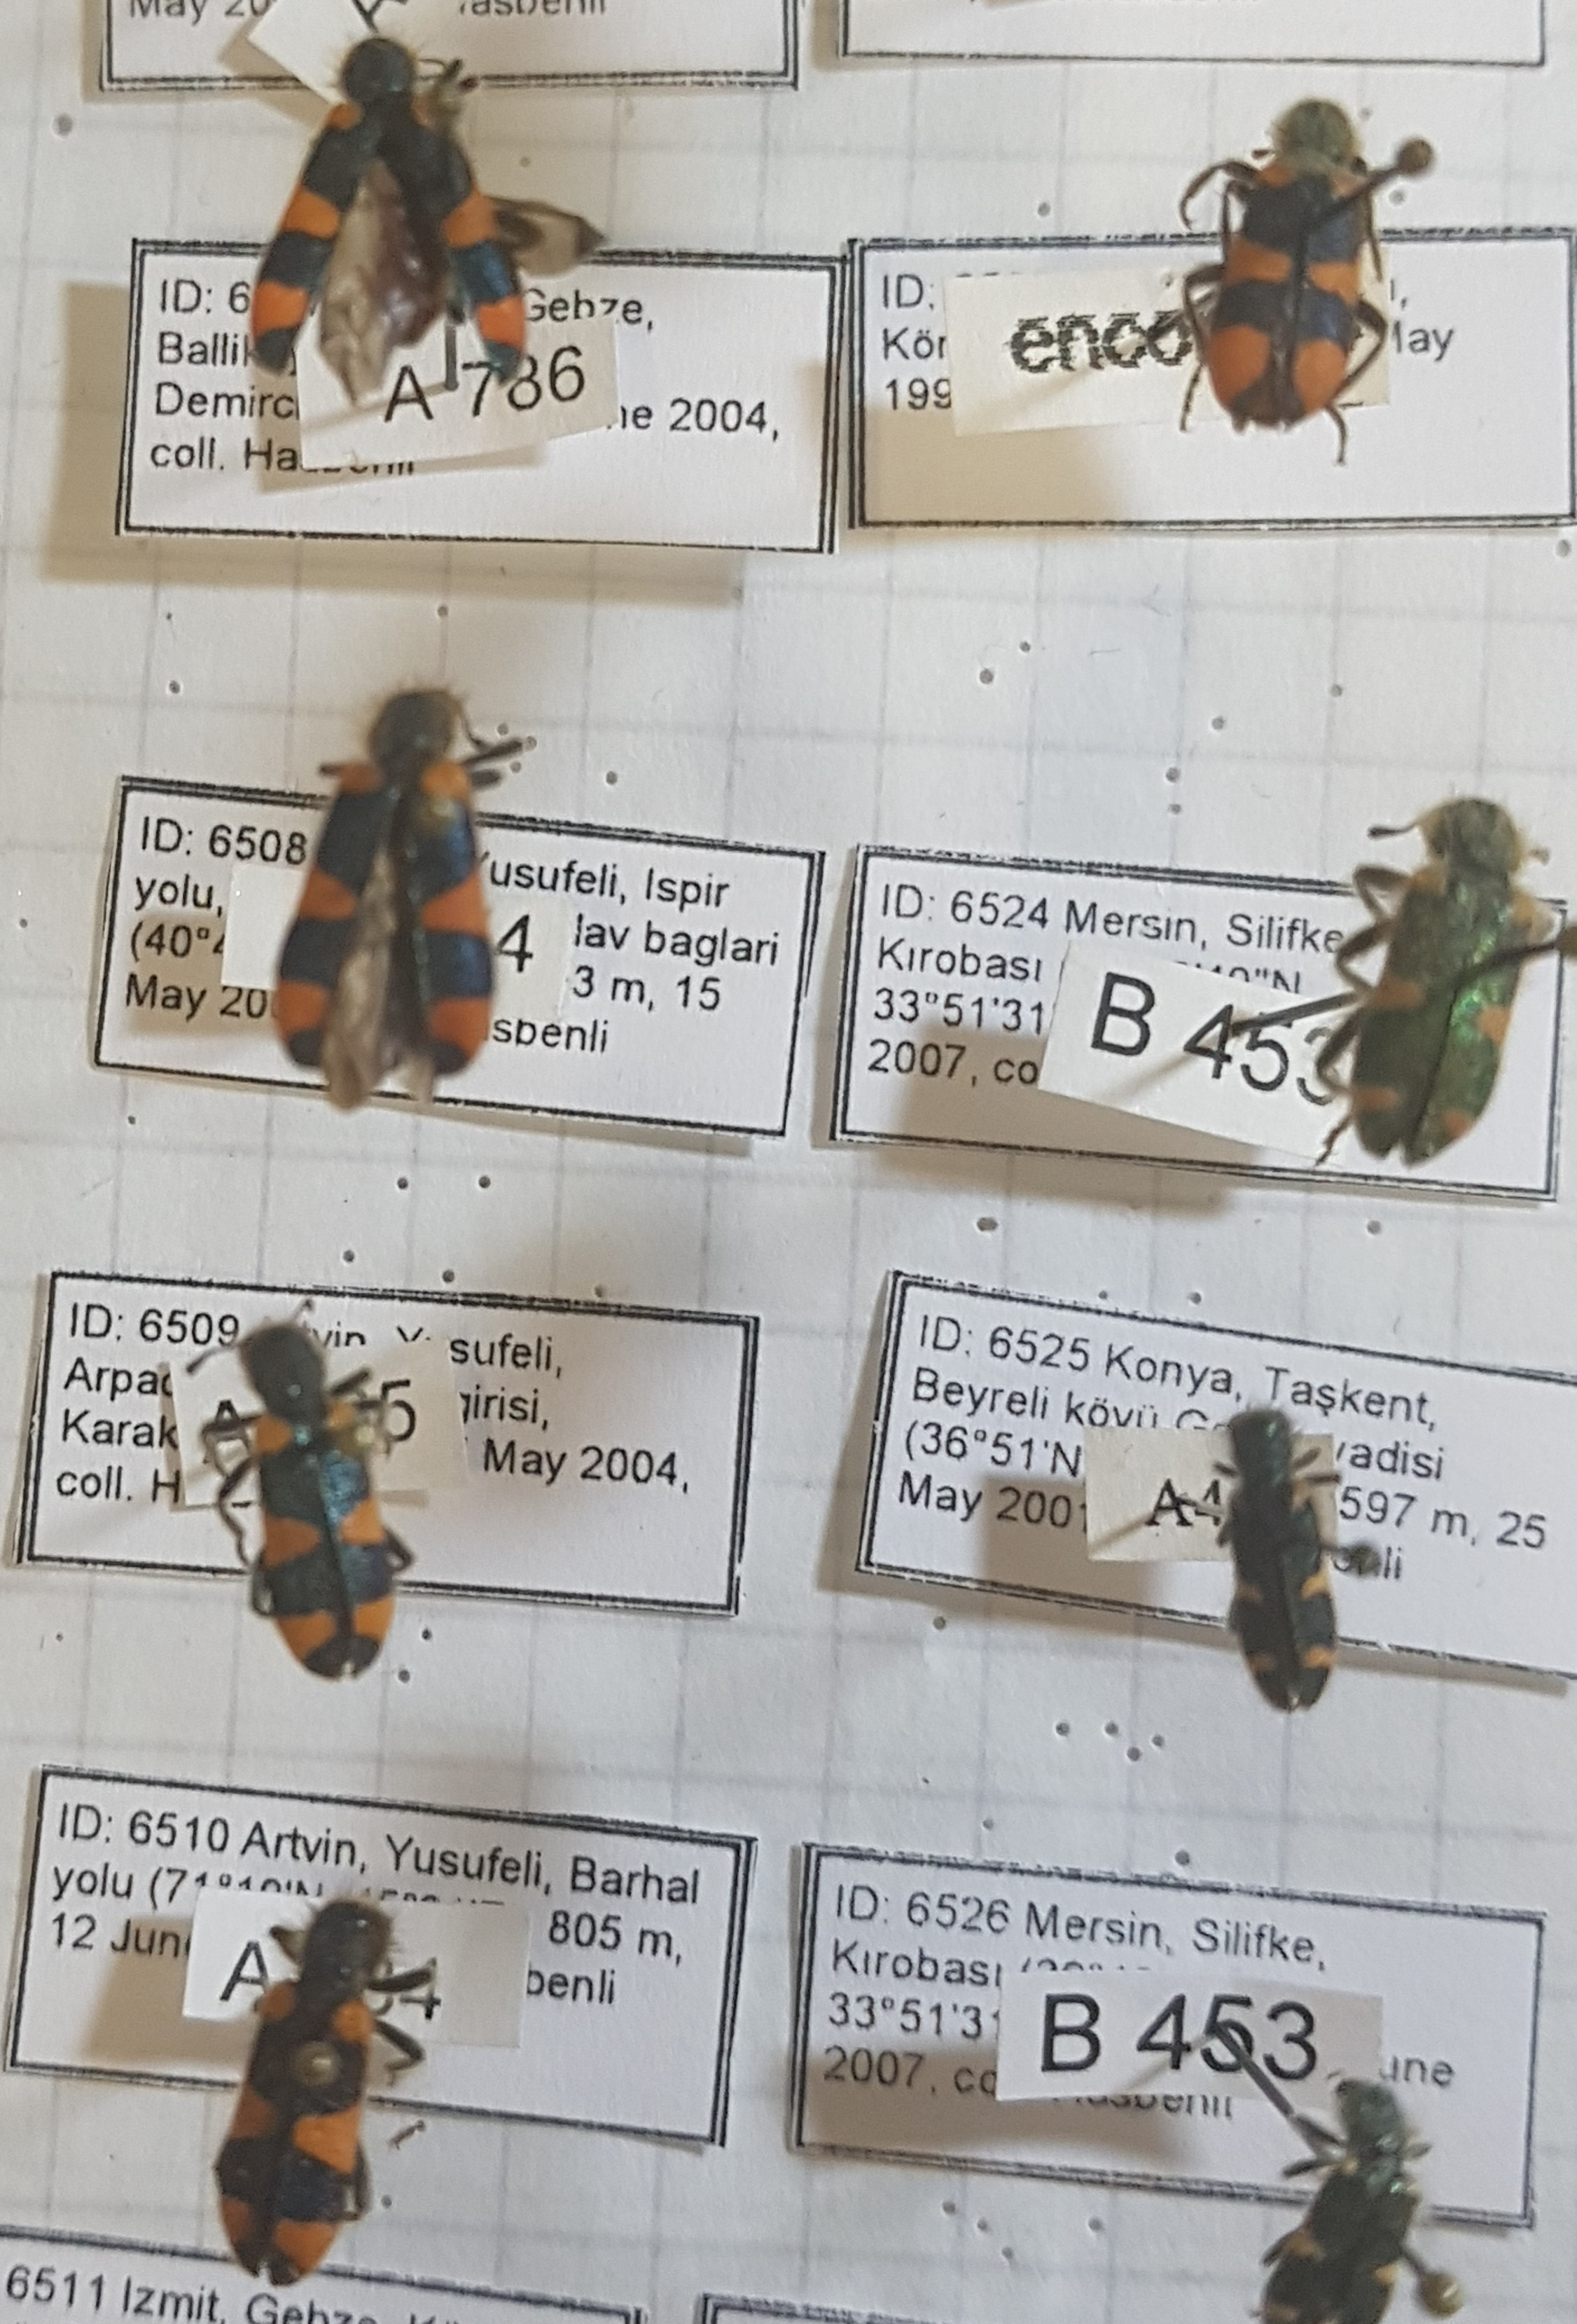trichodes_holtzi: (232, 25, 579, 410), (260, 674, 533, 1134), (197, 1294, 461, 1694), (1139, 83, 1392, 444), (208, 1900, 435, 2287), (1331, 778, 1552, 1158), (1186, 1393, 1375, 1727)
